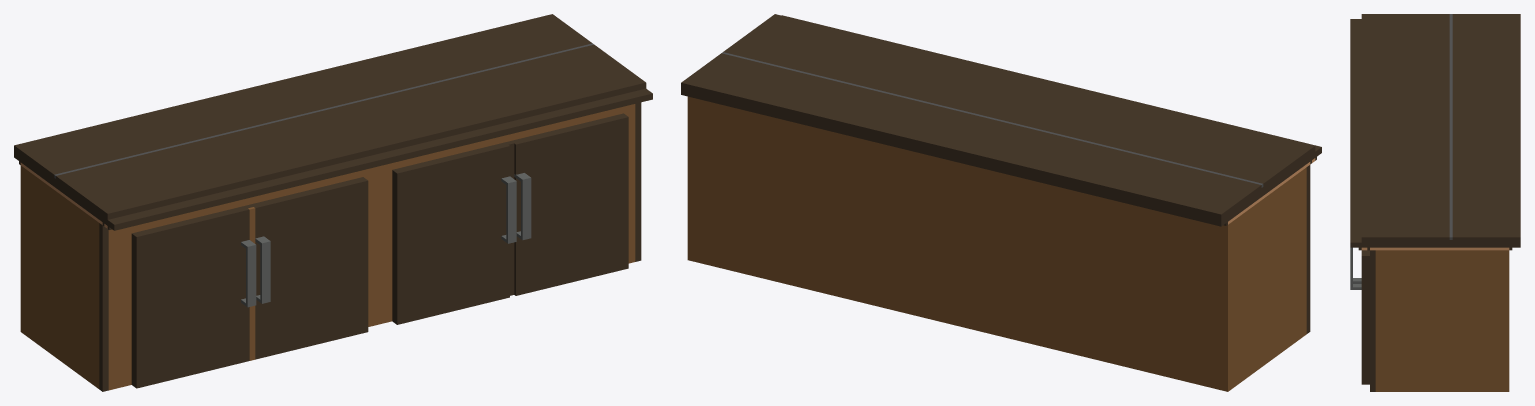
The model's file is Pista2.obj.
3 renders of one model, left to right at view 1: azimuth 30°, elevation 25°; view 2: azimuth 150°, elevation 25°; view 3: azimuth 270°, elevation 25°, orthographic. The views are drawn at different scales.
Bounding box in the file's own units: 18.6 × 6 × 6.
Materials: 1 (1 with a texture image).
